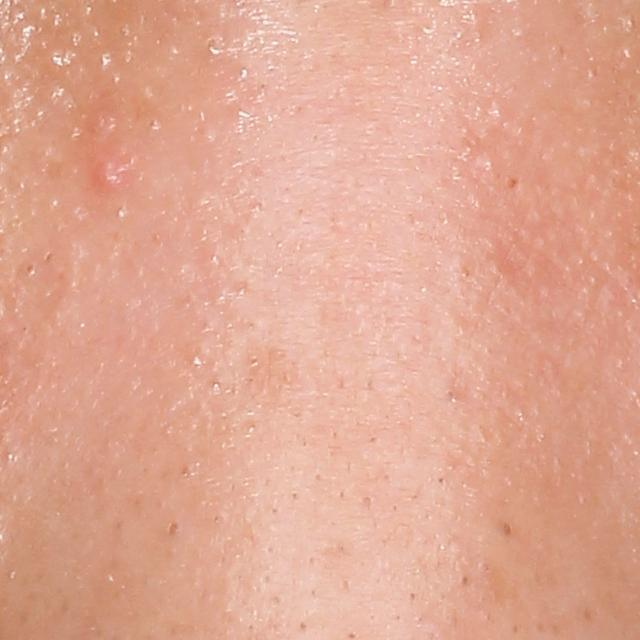comedo: (20, 257, 39, 280), (163, 517, 181, 538)
papule: (92, 160, 121, 194)
